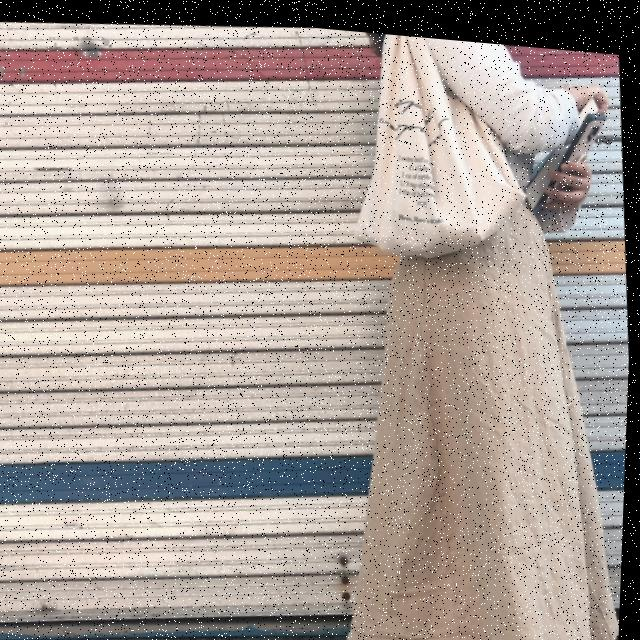ecobag: (320, 23, 544, 263)
